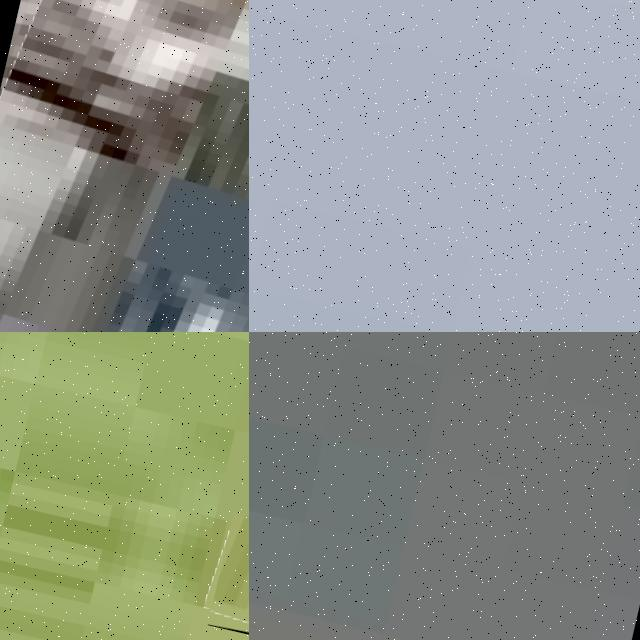drone: (0, 0, 249, 332)
